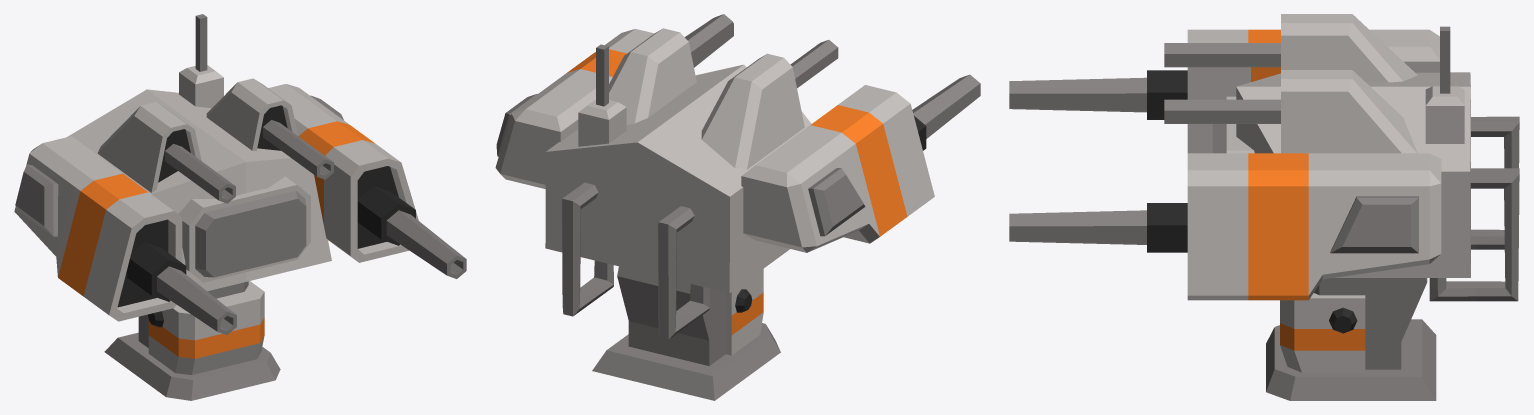
File: scifi_scifi-turret-head-artillery-big.fbx
The picture shows the model from 3 angles, left to right: view 1: azimuth 30°, elevation 25°; view 2: azimuth 150°, elevation 25°; view 3: azimuth 270°, elevation 25°; orthographic projection. The views are drawn at different scales.
Parts seen in each view (by area): view 1: scifi_scifi_turret_head_artillery_big; view 2: scifi_scifi_turret_head_artillery_big; view 3: scifi_scifi_turret_head_artillery_big.
Boxes of the visible parts, bbox=[...] form: scifi_scifi_turret_head_artillery_big: bbox=[14, 14, 466, 400]; scifi_scifi_turret_head_artillery_big: bbox=[495, 14, 980, 400]; scifi_scifi_turret_head_artillery_big: bbox=[1009, 14, 1519, 400].
Size of the model in its own units: 153 by 143 by 182.
